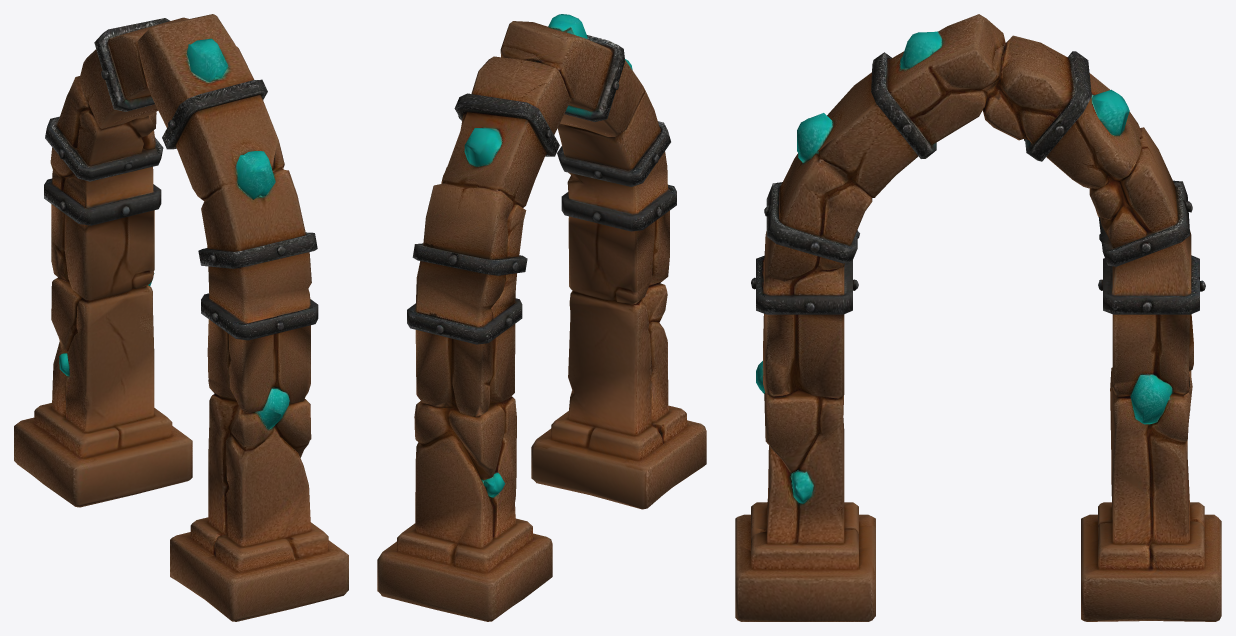
The model's file is tripo_convert_9d56a215-6369-463e-8dc5-bf0ac85140bb.fbx.
3 views of the same model, side by side, from view 1: azimuth 30°, elevation 25°; view 2: azimuth 150°, elevation 25°; view 3: azimuth 270°, elevation 25° (orthographic). The views are drawn at different scales.
Visible parts, largest first — view 1: tripo_node_9d56a215; view 2: tripo_node_9d56a215; view 3: tripo_node_9d56a215.
Boxes of the visible parts, x1,y1,x2,y2 form: tripo_node_9d56a215: [14, 14, 348, 621]; tripo_node_9d56a215: [377, 14, 706, 621]; tripo_node_9d56a215: [735, 14, 1221, 621].
Bounding box in the file's own units: 0.2441 × 0.998 × 0.7832.
1 material, 1 textured.
